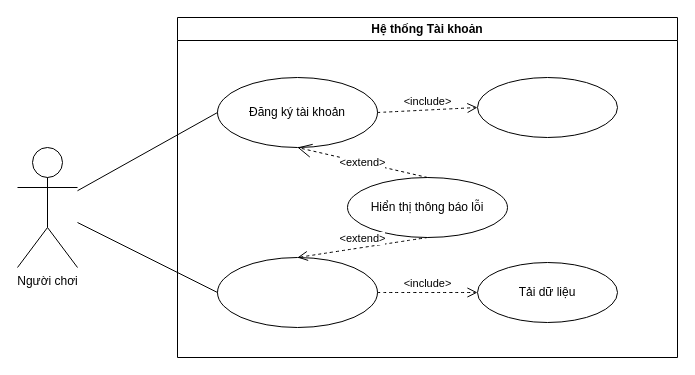
This 695x375 diagram has some shape labels left out. Each missing label, with the centre of its shape:
"Kiểm tra tính hợp lệ" belongs at [547,107].
"Đăng nhập" belongs at [297,292].
